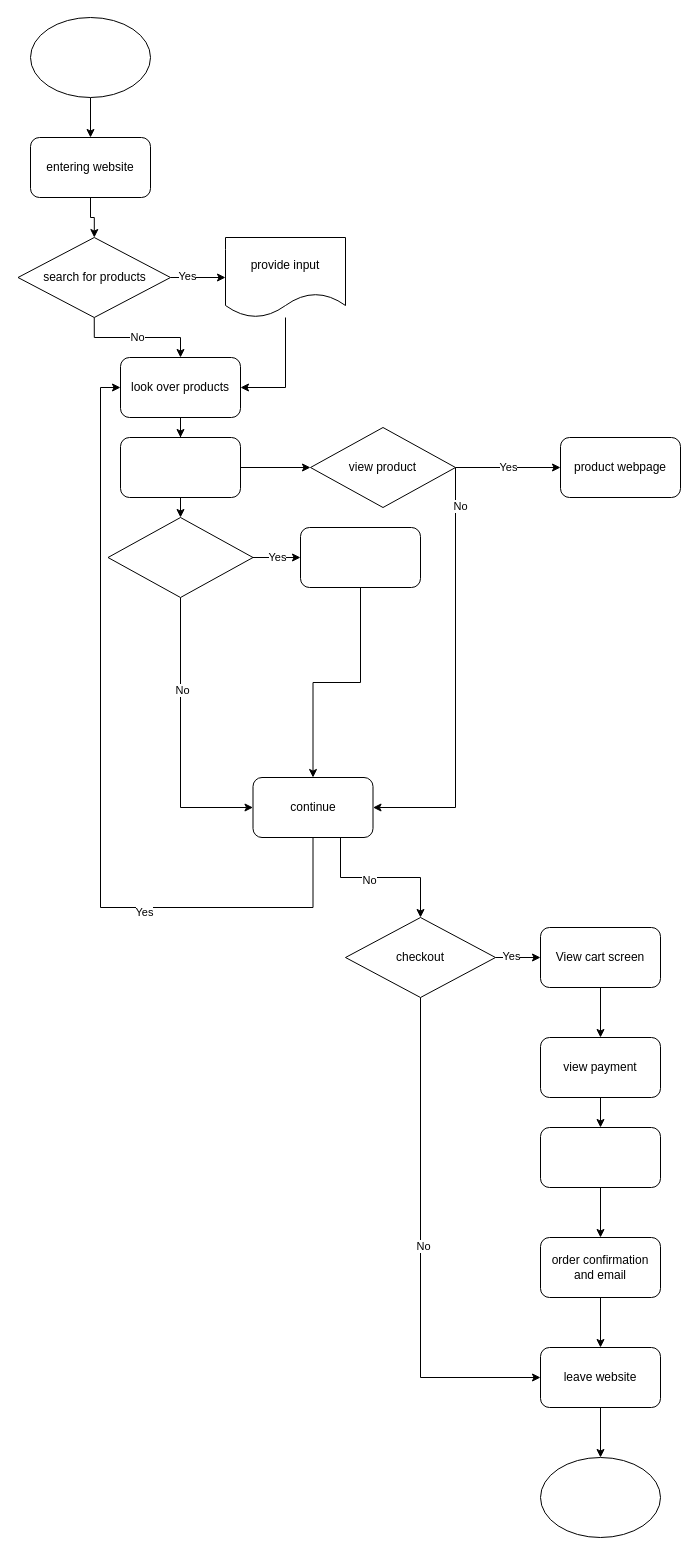
The diagram is 698 pixels wide and 1555 high, and some of its shapes have lost their labels. Each missing label, with the centre of its shape:
"add item" belongs at pixel 180 557.
"confirmation" belongs at pixel 360 557.
"End" belongs at pixel 600 1497.
"options viewing a product" belongs at pixel 180 467.
"pay" belongs at pixel 600 1157.
"Start" belongs at pixel 90 57.
